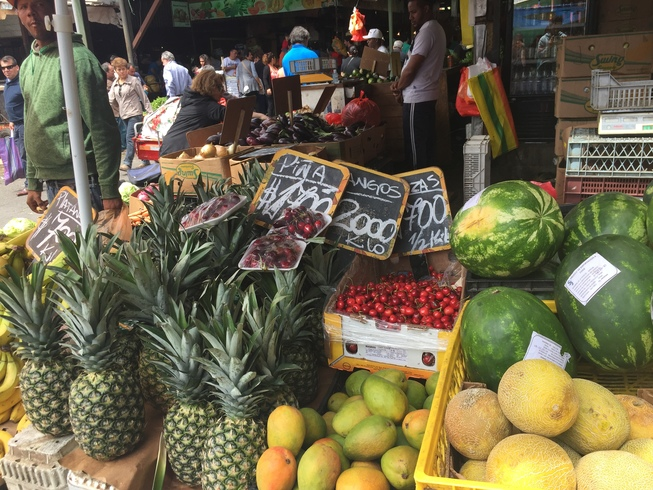precio: (328, 152, 414, 274), (253, 141, 351, 246), (388, 161, 456, 256), (29, 187, 98, 280)
